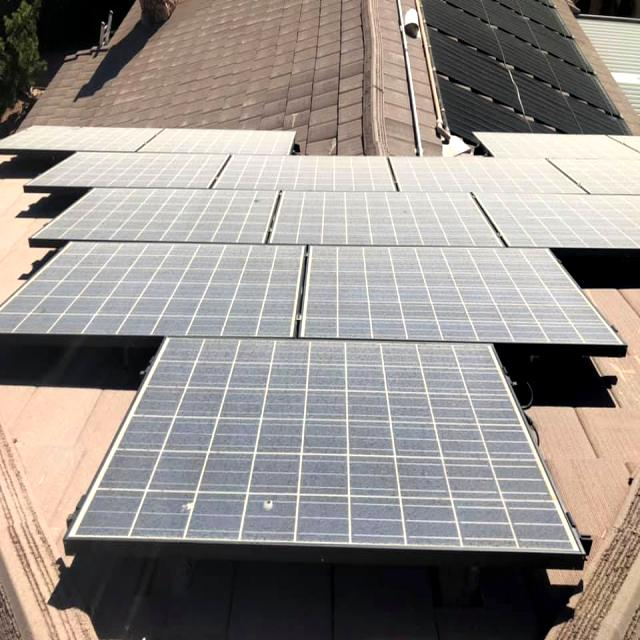dust: (168, 354, 283, 538), (299, 348, 404, 538), (63, 248, 296, 322), (319, 248, 540, 324), (414, 365, 492, 542), (92, 188, 258, 236), (289, 200, 466, 236), (502, 204, 628, 238)
